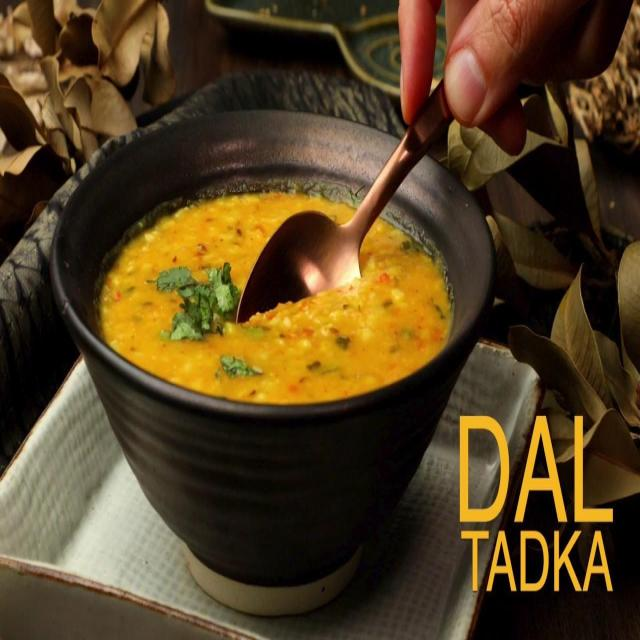dal: (94, 102, 461, 432)
